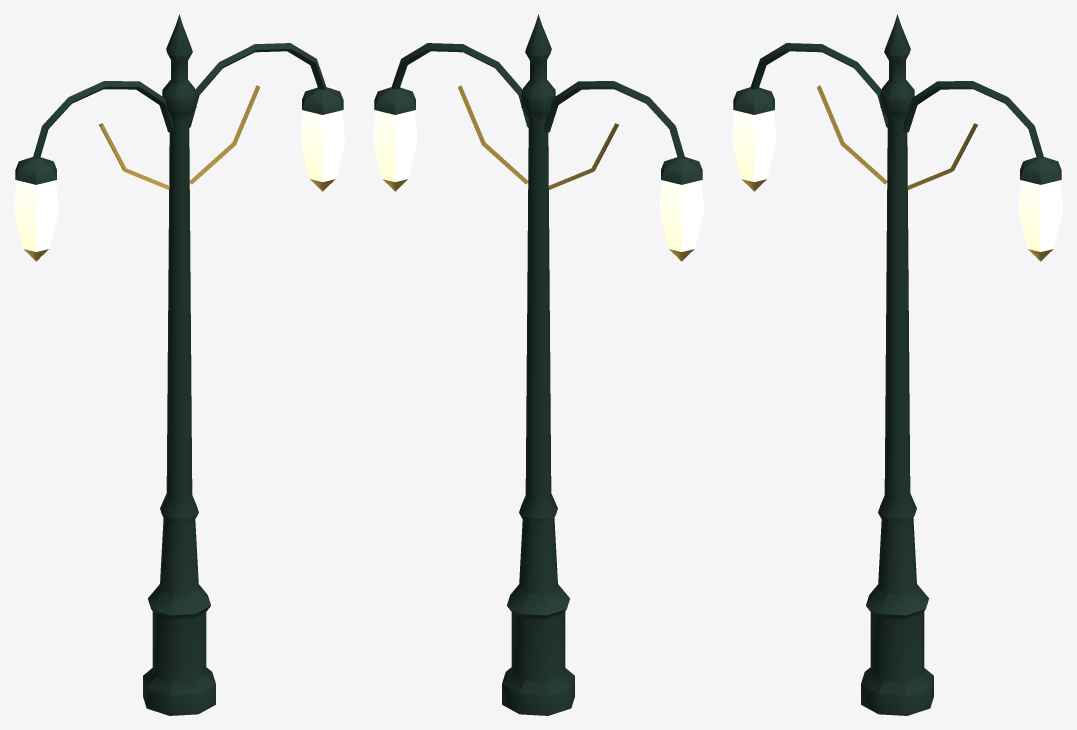
The model's file is tokyo_streetlamp_ginza.glb.
3 views of the same model, side by side, from view 1: azimuth 30°, elevation 25°; view 2: azimuth 150°, elevation 25°; view 3: azimuth 330°, elevation 25° (orthographic).
Parts seen in each view (by area): view 1: tokyo_streetlamp_ginza; view 2: tokyo_streetlamp_ginza; view 3: tokyo_streetlamp_ginza.
Part boxes in pixels (box(x1,y1,x2,y2)): tokyo_streetlamp_ginza: box(14, 14, 344, 715); tokyo_streetlamp_ginza: box(373, 14, 703, 715); tokyo_streetlamp_ginza: box(732, 14, 1062, 715).
Size of the model in its own units: 3.02 by 6 by 0.6.
1 material, 1 textured.
